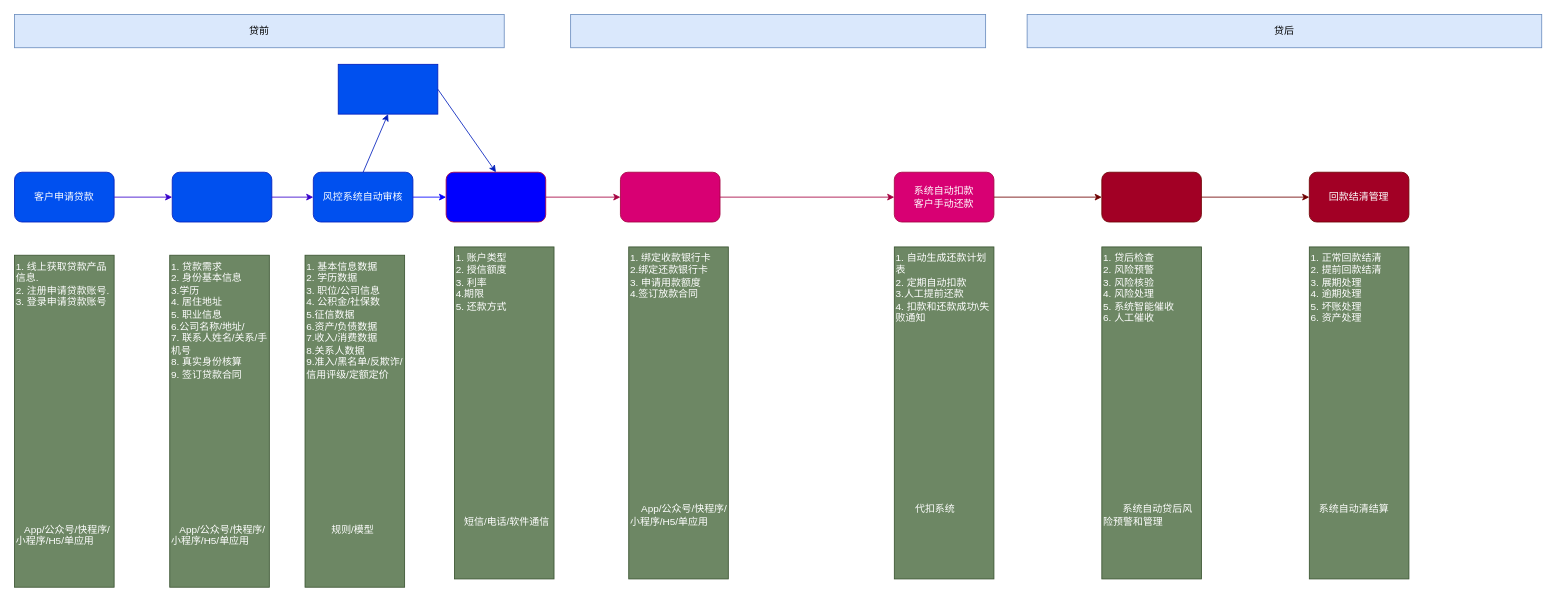
Some shapes in this 1556 by 602 pixel diagram are drawn without their labels. Each missing label, with the centre of its shape:
人工审核: point (387, 88)
客户绑卡申请支用: point (670, 196)
提交贷款资料: point (221, 196)
贷中: point (778, 31)
贷后管理: point (1151, 196)
通知授信额度/利率/期限: point (495, 196)
